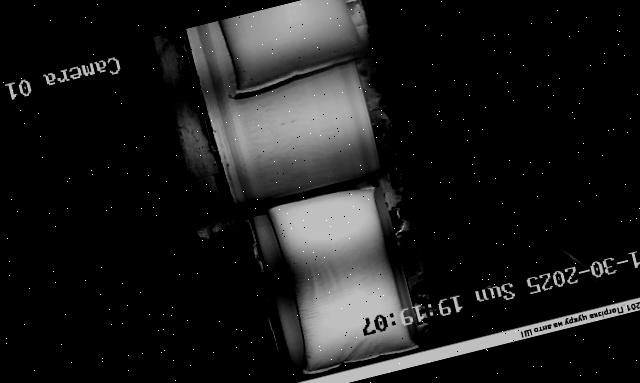bag: (256, 174, 418, 376), (214, 0, 368, 95)
